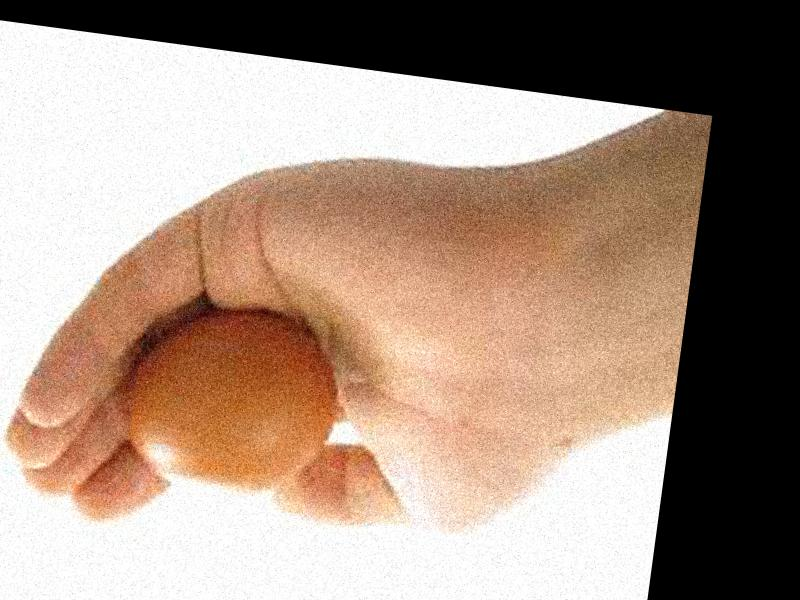Eggs: (102, 299, 348, 503)
